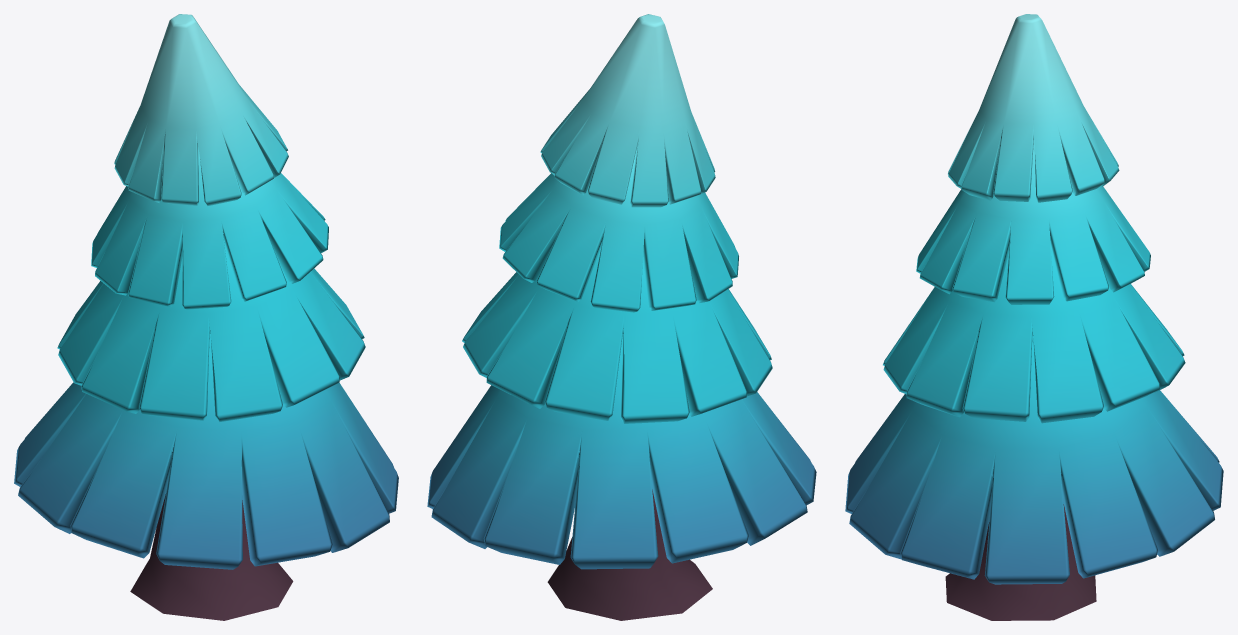
The model's file is prop_environment_tree01_2.fbx.
3 renders of one model, left to right at view 1: azimuth 30°, elevation 25°; view 2: azimuth 150°, elevation 25°; view 3: azimuth 270°, elevation 25°, orthographic. The views are drawn at different scales.
Visible parts, largest first — view 1: prop_environment_tree01_2; view 2: prop_environment_tree01_2; view 3: prop_environment_tree01_2.
Part boxes in pixels (x1,y1,x2,y2): prop_environment_tree01_2: [14, 14, 398, 620]; prop_environment_tree01_2: [427, 14, 816, 620]; prop_environment_tree01_2: [845, 14, 1223, 620].
Bounding box in the file's own units: 321 × 522 × 319.
Materials: 1 (1 with a texture image).
